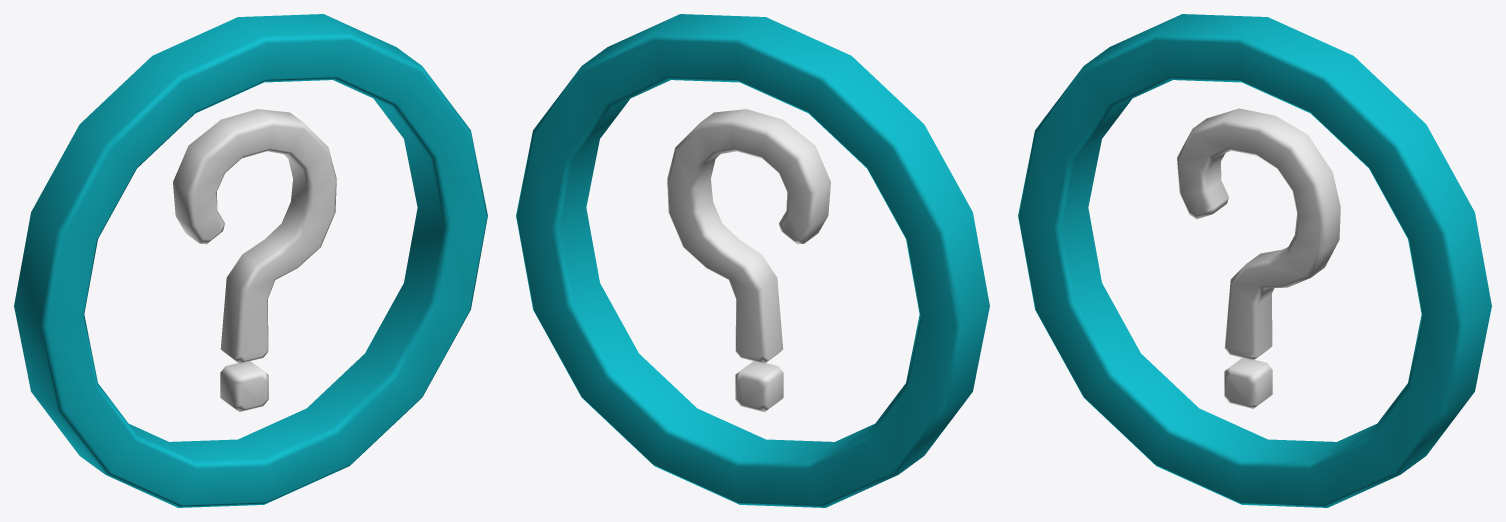
File: Random skill-1.fbx
3 renders of one model, left to right at view 1: azimuth 30°, elevation 25°; view 2: azimuth 150°, elevation 25°; view 3: azimuth 330°, elevation 25°, orthographic.
Parts seen in each view (by area): view 1: Random Skill-1; view 2: Random Skill-1; view 3: Random Skill-1.
Boxes of the visible parts, x1,y1,x2,y2 form: Random Skill-1: [14, 14, 487, 507]; Random Skill-1: [516, 14, 989, 507]; Random Skill-1: [1018, 14, 1491, 507].
Bounding box in the file's own units: 184 × 184 × 22.96.
